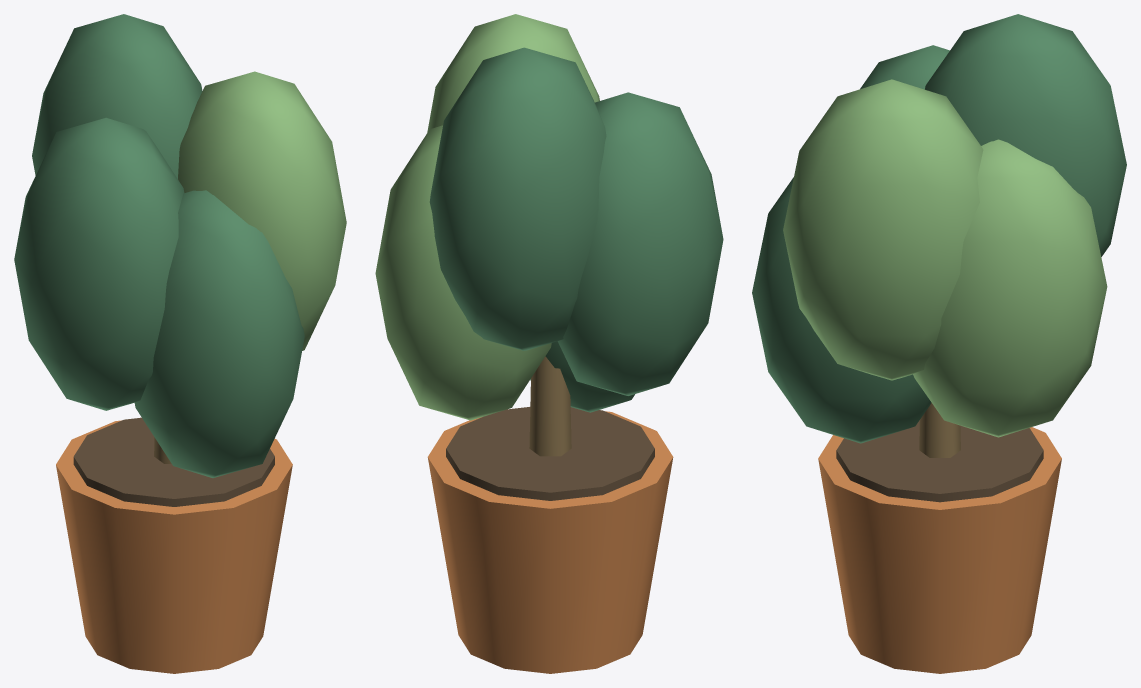
File: plant-movable.glb
The picture shows the model from 3 angles, left to right: view 1: azimuth 30°, elevation 25°; view 2: azimuth 150°, elevation 25°; view 3: azimuth 270°, elevation 25°; orthographic projection. The views are drawn at different scales.
Visible parts, largest first — view 1: plant-movable; view 2: plant-movable; view 3: plant-movable.
Boxes of the visible parts, x1,y1,x2,y2 form: plant-movable: (14,14,346,673); plant-movable: (375,14,723,673); plant-movable: (752,14,1126,673).
Bounding box in the file's own units: 0.6535 × 1.34 × 0.738.
